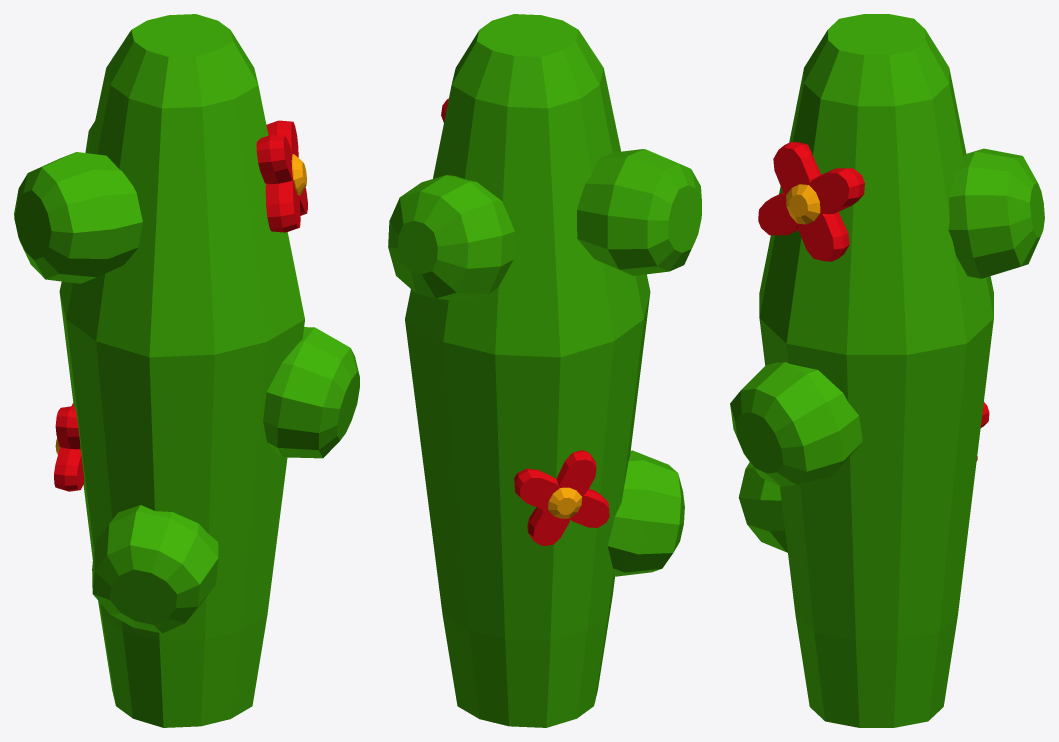
Rendered from Cactus 2.fbx.
3 renders of one model, left to right at view 1: azimuth 30°, elevation 25°; view 2: azimuth 150°, elevation 25°; view 3: azimuth 270°, elevation 25°, orthographic.
Parts seen in each view (by area): view 1: Cube.048, Cube.046, Cube.052; view 2: Cube.048, Cube.052, Cube.051; view 3: Cube.048, Cube.046, Cube.049.
Boxes of the visible parts, x1=… form: Cube.048: x1=14, y1=14, x2=359, y2=727; Cube.046: x1=256, y1=120, x2=307, y2=232; Cube.052: x1=54, y1=403, x2=84, y2=491; Cube.048: x1=388, y1=14, x2=701, y2=727; Cube.052: x1=514, y1=450, x2=609, y2=546; Cube.051: x1=548, y1=487, x2=582, y2=518; Cube.048: x1=730, y1=14, x2=1044, y2=727; Cube.046: x1=758, y1=142, x2=864, y2=261; Cube.049: x1=786, y1=184, x2=820, y2=224.
Bounding box in the file's own units: 326 × 707 × 303.
